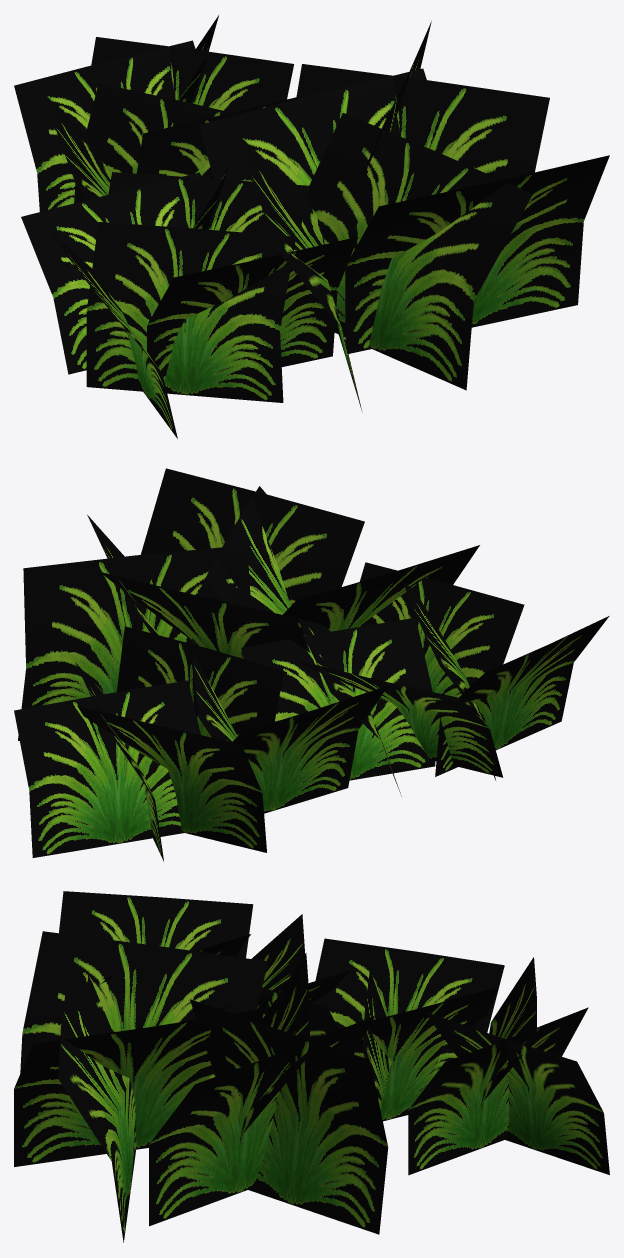
The model's file is sm_straw_04.FBX.
3 renders of one model, top to bottom at view 1: azimuth 30°, elevation 25°; view 2: azimuth 150°, elevation 25°; view 3: azimuth 270°, elevation 25°, orthographic. The views are drawn at different scales.
Visible parts, largest first — view 1: sm_straw_04; view 2: sm_straw_04; view 3: sm_straw_04.
Part boxes in pixels (x1,y1,x2,y2): sm_straw_04: [14, 15, 609, 438]; sm_straw_04: [14, 468, 609, 861]; sm_straw_04: [14, 891, 609, 1242].
Size of the model in its own units: 73.05 by 79.83 by 27.08.
